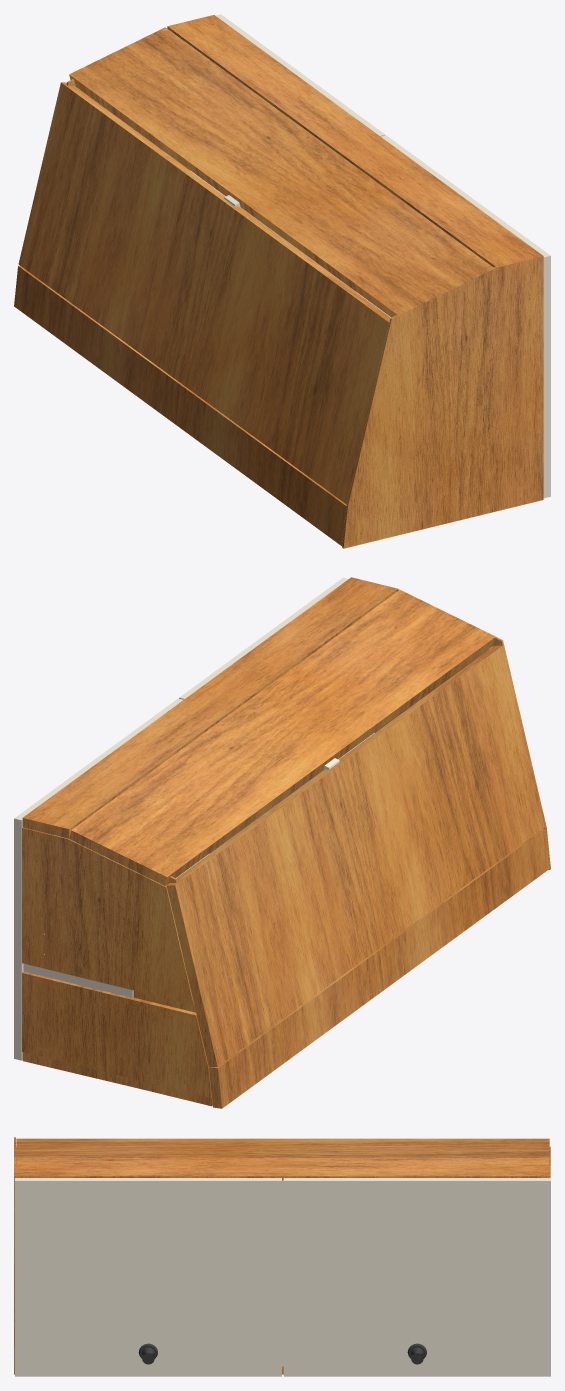
Rendered from wall-cabinet-above-kitchen.glb.
The picture shows the model from 3 angles, top to bottom: view 1: azimuth 30°, elevation 25°; view 2: azimuth 150°, elevation 25°; view 3: azimuth 270°, elevation 25°; orthographic projection. The views are drawn at different scales.
Visible parts, largest first — view 1: Document.007; view 2: Document.007; view 3: Document.007.
Part boxes in pixels (box(x1,y1,x2,y2)): Document.007: box(14, 14, 550, 548); Document.007: box(14, 577, 550, 1108); Document.007: box(14, 1137, 550, 1376).
Size of the model in its own units: 0.3697 by 0.384 by 0.9435.
3 materials, 1 textured.
